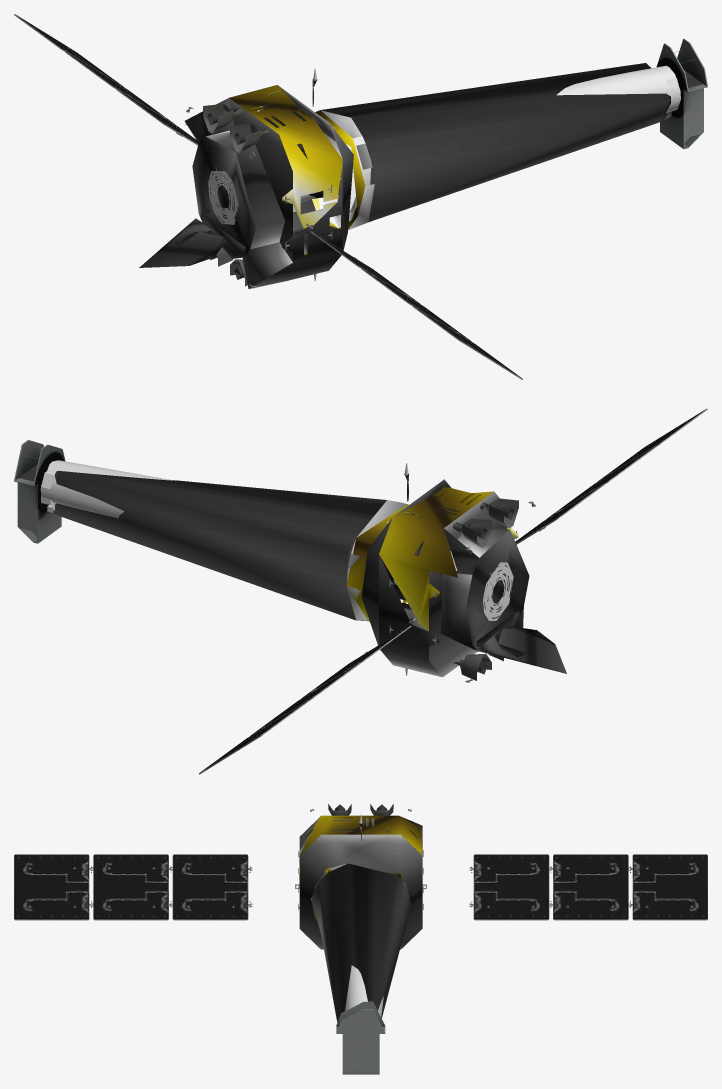
File: chandra.glb
3 renders of one model, top to bottom at view 1: azimuth 30°, elevation 25°; view 2: azimuth 150°, elevation 25°; view 3: azimuth 270°, elevation 25°, orthographic. The views are drawn at different scales.
Parts seen in each view (by area): view 1: foil_silver, shiny_panel, foil_gold, AO_HRMA; view 2: foil_silver, shiny_panel, foil_gold, AO_HRMA; view 3: shiny_panel, foil_silver, foil_gold, AO_HRMA.
Boxes of the visible parts, <box> form: foil_silver: <box>139,63,671,288</box>; shiny_panel: <box>14,14,707,379</box>; foil_gold: <box>185,85,365,254</box>; AO_HRMA: <box>208,65,680,224</box>; foil_silver: <box>53,471,566,677</box>; shiny_panel: <box>14,408,707,774</box>; foil_gold: <box>346,486,518,631</box>; AO_HRMA: <box>40,460,513,620</box>; shiny_panel: <box>14,804,707,1074</box>; foil_silver: <box>299,816,422,1021</box>; foil_gold: <box>299,815,422,920</box>; AO_HRMA: <box>345,965,383,1017</box>.
Size of the model in its own units: 13.74 by 5.12 by 19.51.
4 materials, 3 textured.
